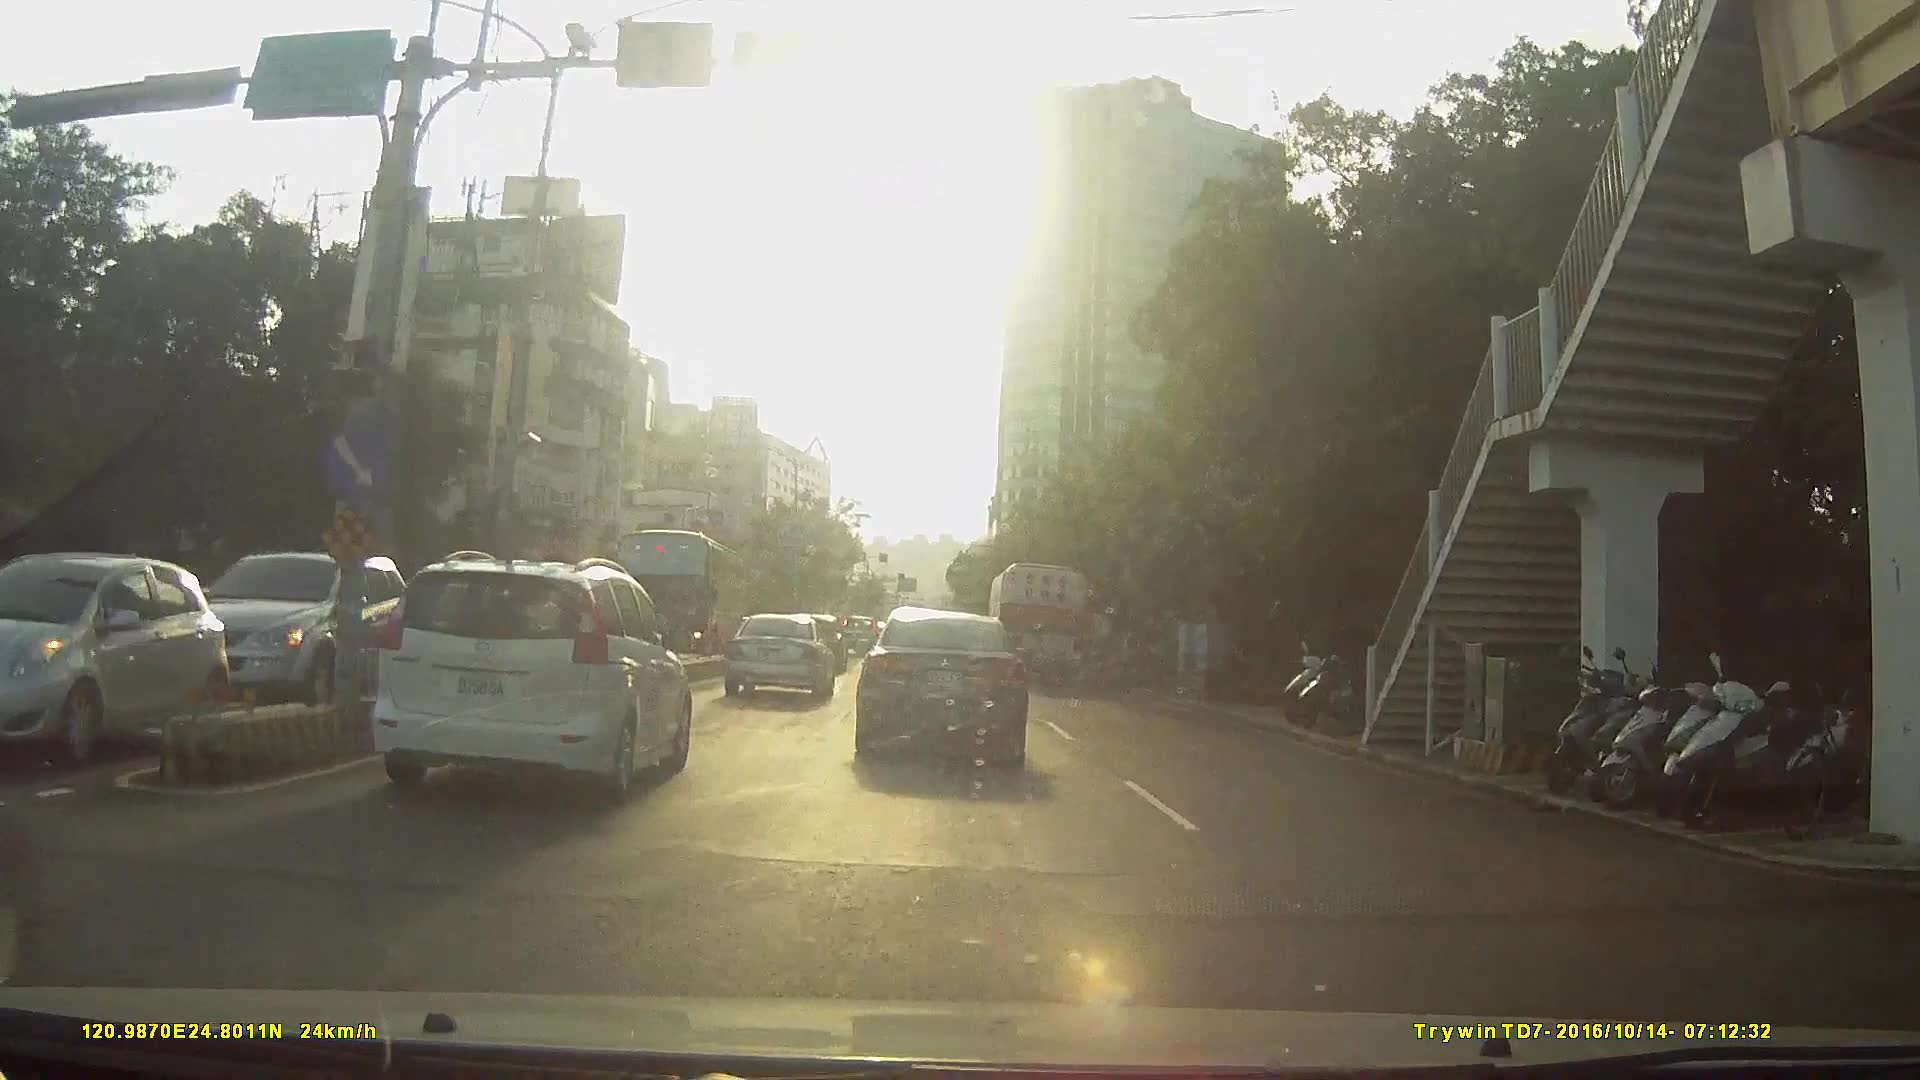vehicle: (251, 556, 684, 868), (371, 549, 694, 802), (152, 542, 439, 723), (0, 546, 189, 771), (855, 603, 1030, 773), (607, 527, 744, 659), (986, 562, 1092, 691), (724, 615, 835, 705), (836, 615, 884, 658)
